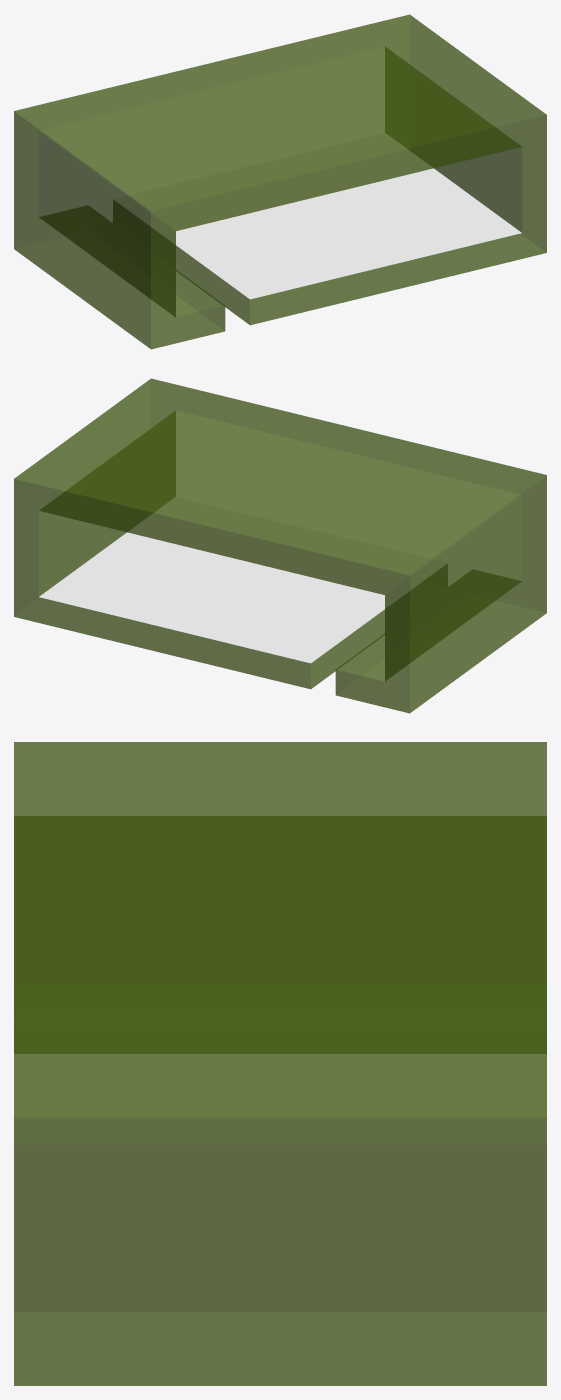
Rendered from coffeetable.obj.
3 views of the same model, one above another, from view 1: azimuth 30°, elevation 25°; view 2: azimuth 150°, elevation 25°; view 3: azimuth 270°, elevation 25° (orthographic). The views are drawn at different scales.
Visible parts, largest first — view 1: Mesh1 coffee_table_almost_square2_1 Model; view 2: Mesh1 coffee_table_almost_square2_1 Model; view 3: Mesh1 coffee_table_almost_square2_1 Model.
Part boxes in pixels (left/top/right/bottom): Mesh1 coffee_table_almost_square2_1 Model: left=14, top=14, right=546, bottom=349; Mesh1 coffee_table_almost_square2_1 Model: left=14, top=378, right=546, bottom=713; Mesh1 coffee_table_almost_square2_1 Model: left=14, top=742, right=546, bottom=1385.
Size of the model in its own units: 48 by 16 by 28.8.
